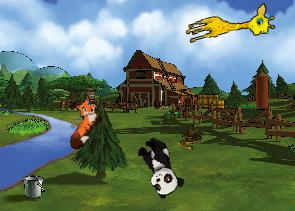fox: (51, 90, 110, 152)
giraffe: (183, 1, 277, 54)
panda: (131, 133, 187, 200)
